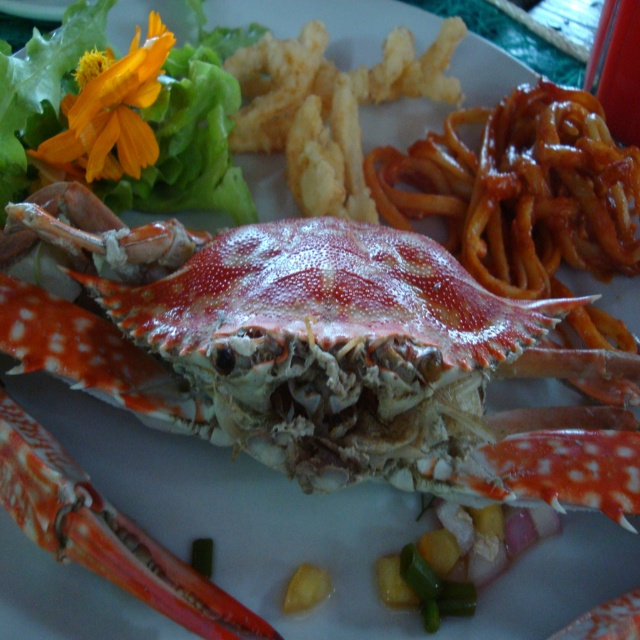Crab: (0, 182, 640, 639)
